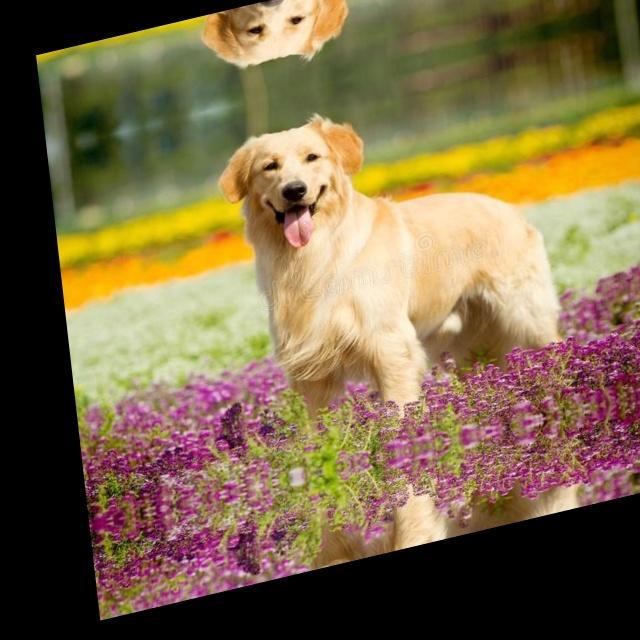dog: (215, 51, 606, 454), (258, 434, 620, 582), (201, 0, 564, 85)
